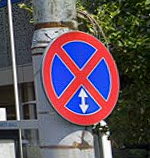oprirea_interzisa: (39, 29, 123, 128)
